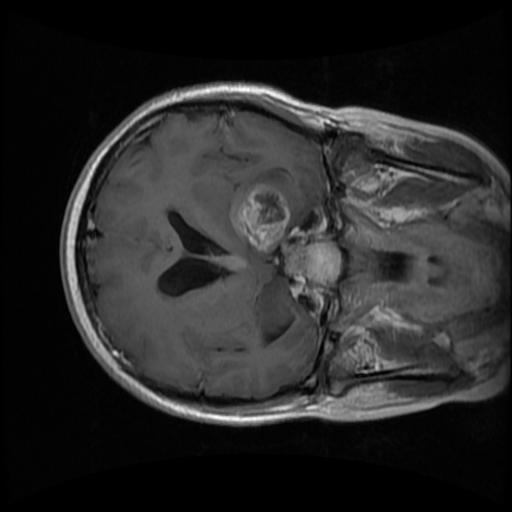glioma: (230, 178, 290, 253)
